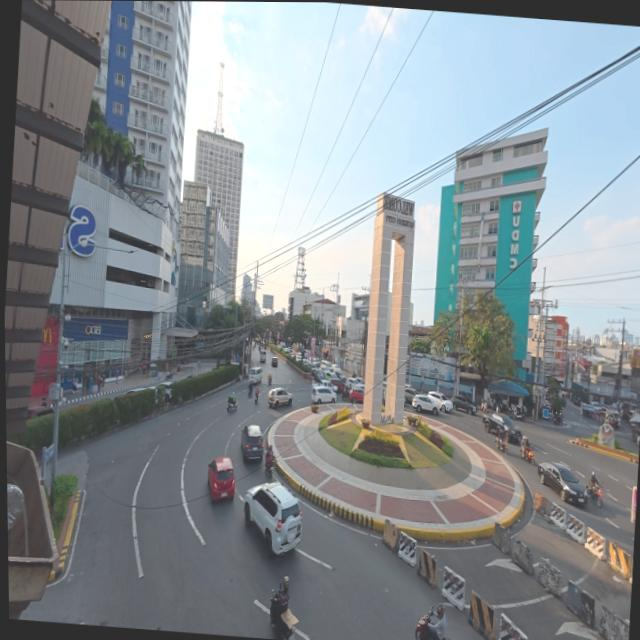car: (238, 483, 305, 562), (327, 370, 365, 402), (239, 422, 268, 463), (409, 391, 452, 414), (266, 384, 293, 409), (311, 379, 338, 402)
